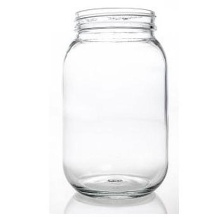bottle: (55, 5, 184, 203)
